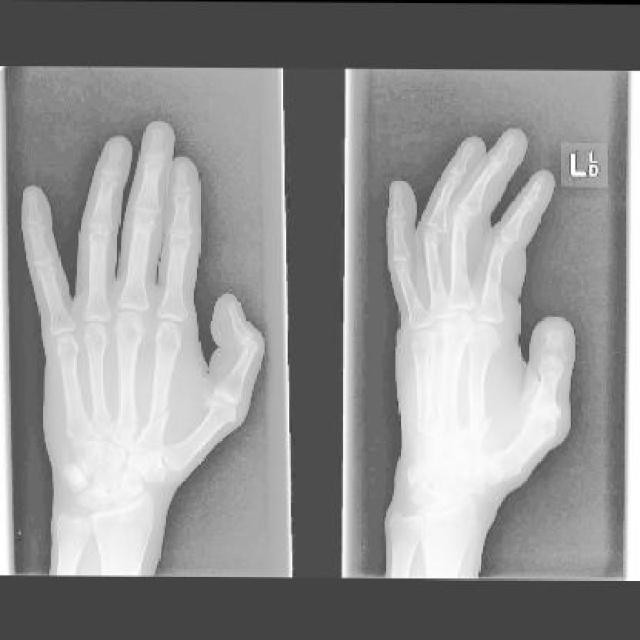Fracture: (470, 408, 496, 445), (146, 405, 169, 432), (115, 408, 140, 430), (443, 412, 465, 434)
